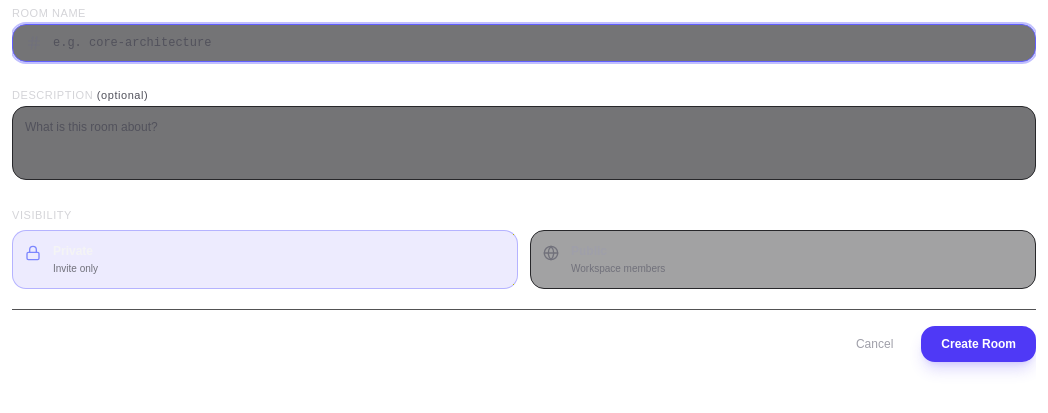
it: room form accessibility and validation › announces and associates invalid room names without submitting
Click the button "Create Room": (979, 344) x1=921 y1=326 x2=1036 y2=362
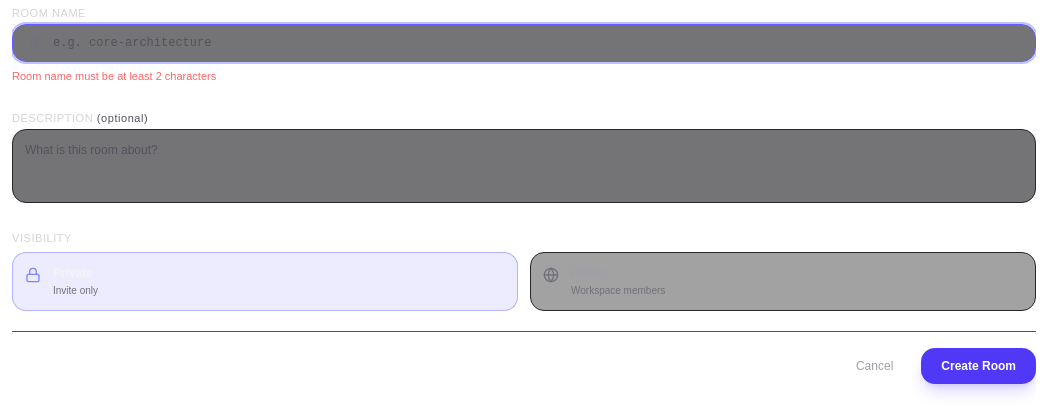
Result: the message shows "at least 2" at x1=12 y1=70 x2=216 y2=82
